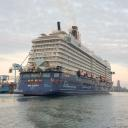cruises: (14, 21, 116, 99)
